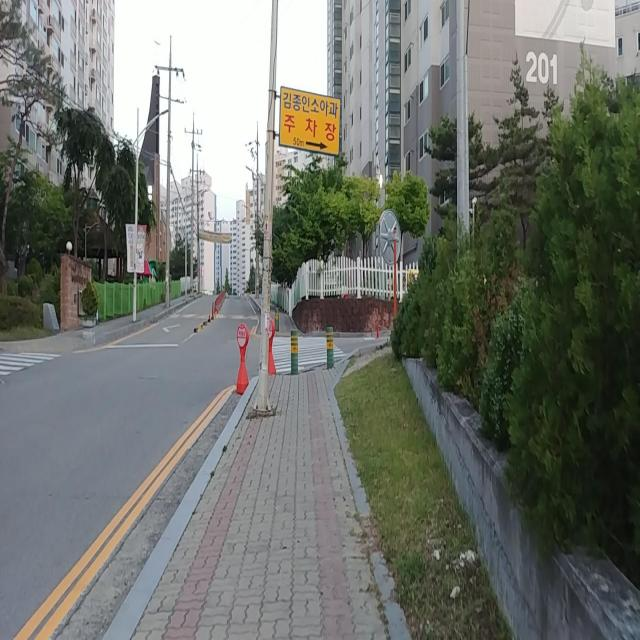횡단보도: (0, 347, 60, 396), (272, 337, 346, 373)
